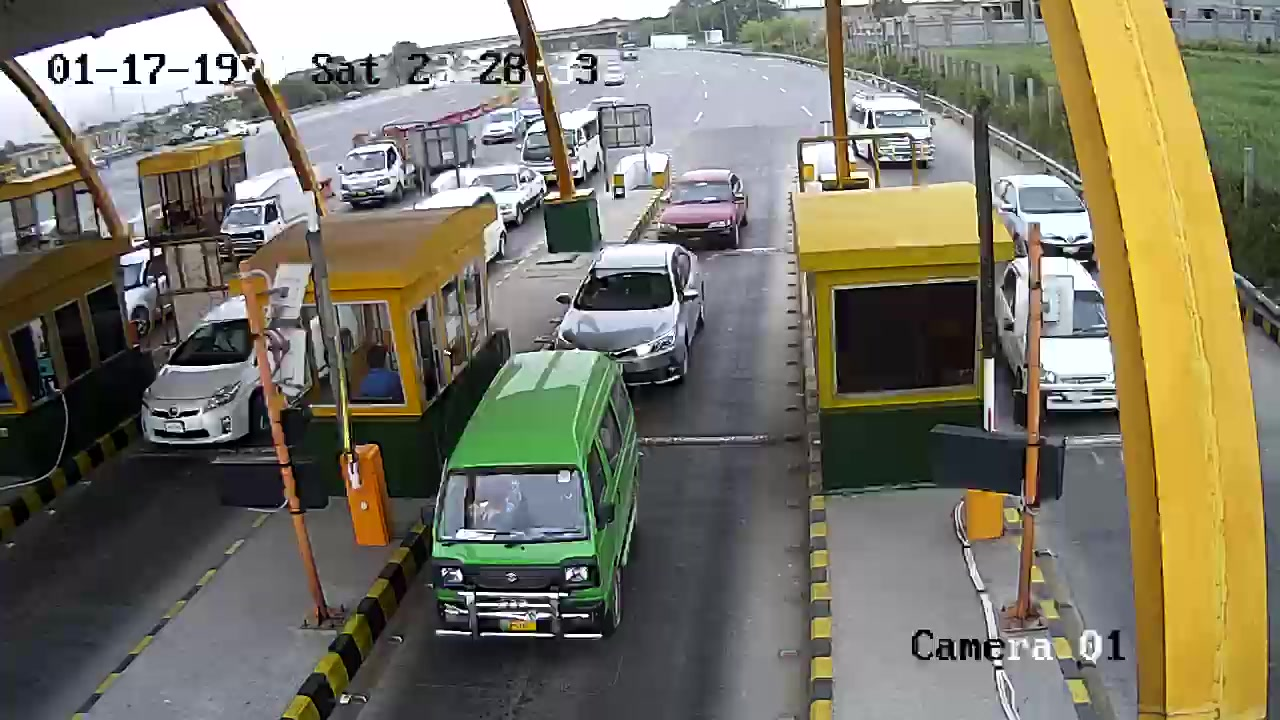F1: (424, 347, 652, 656), (525, 241, 718, 392)
